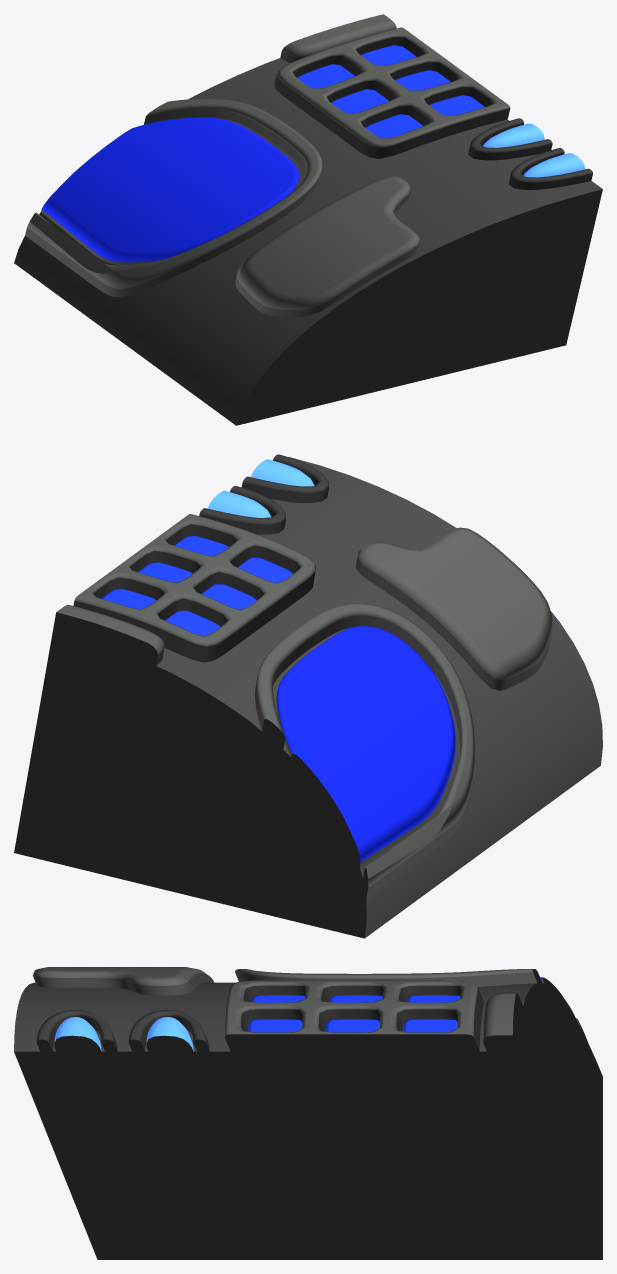
File: time_capsule_244.glb
The picture shows the model from 3 angles, top to bottom: view 1: azimuth 30°, elevation 25°; view 2: azimuth 150°, elevation 25°; view 3: azimuth 270°, elevation 25°; orthographic projection. The views are drawn at different scales.
Parts seen in each view (by area): view 1: time_capsule_244; view 2: time_capsule_244; view 3: time_capsule_244.
Part boxes in pixels (box(x1,y1,x2,y2)): time_capsule_244: box(14, 14, 602, 425); time_capsule_244: box(14, 454, 602, 938); time_capsule_244: box(14, 967, 602, 1259).
Bounding box in the file's own units: 24 × 13.78 × 32.63.
